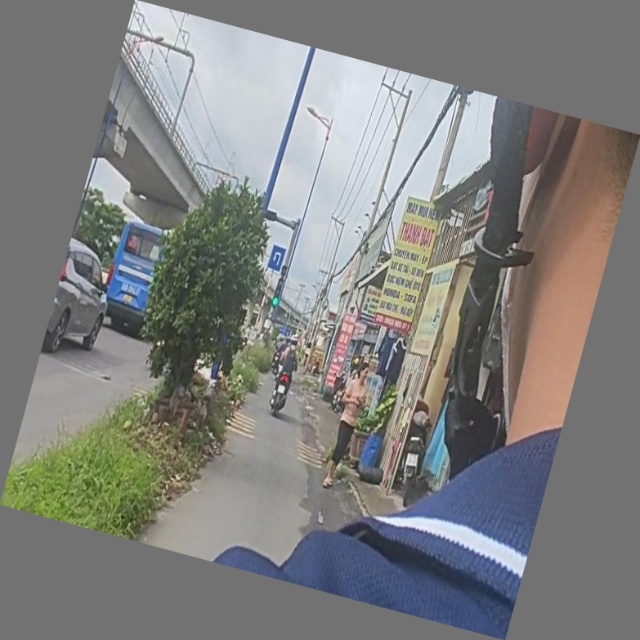I.409: (265, 242, 289, 275)
